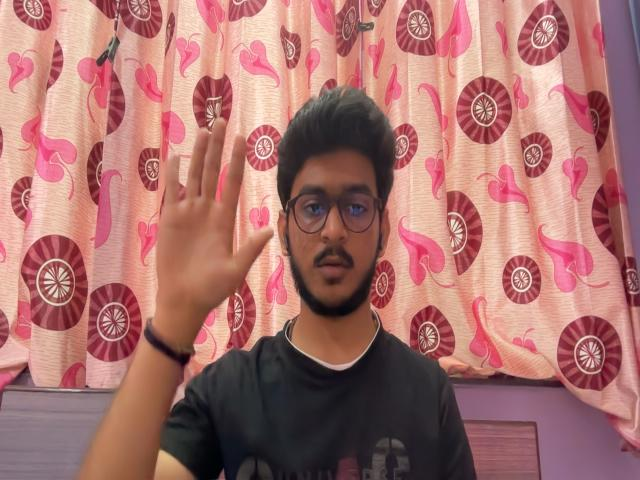Hello: (156, 114, 276, 321)
